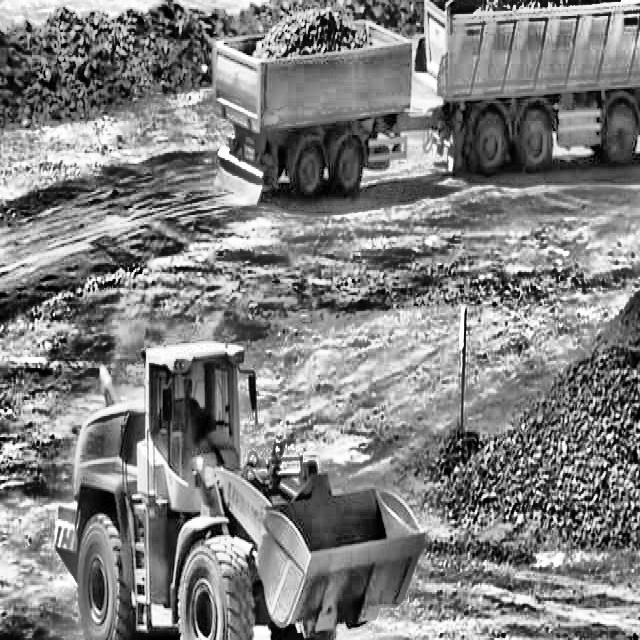buldozerpayloadergrader: (54, 334, 430, 640)
dump_truck: (207, 0, 640, 203)
